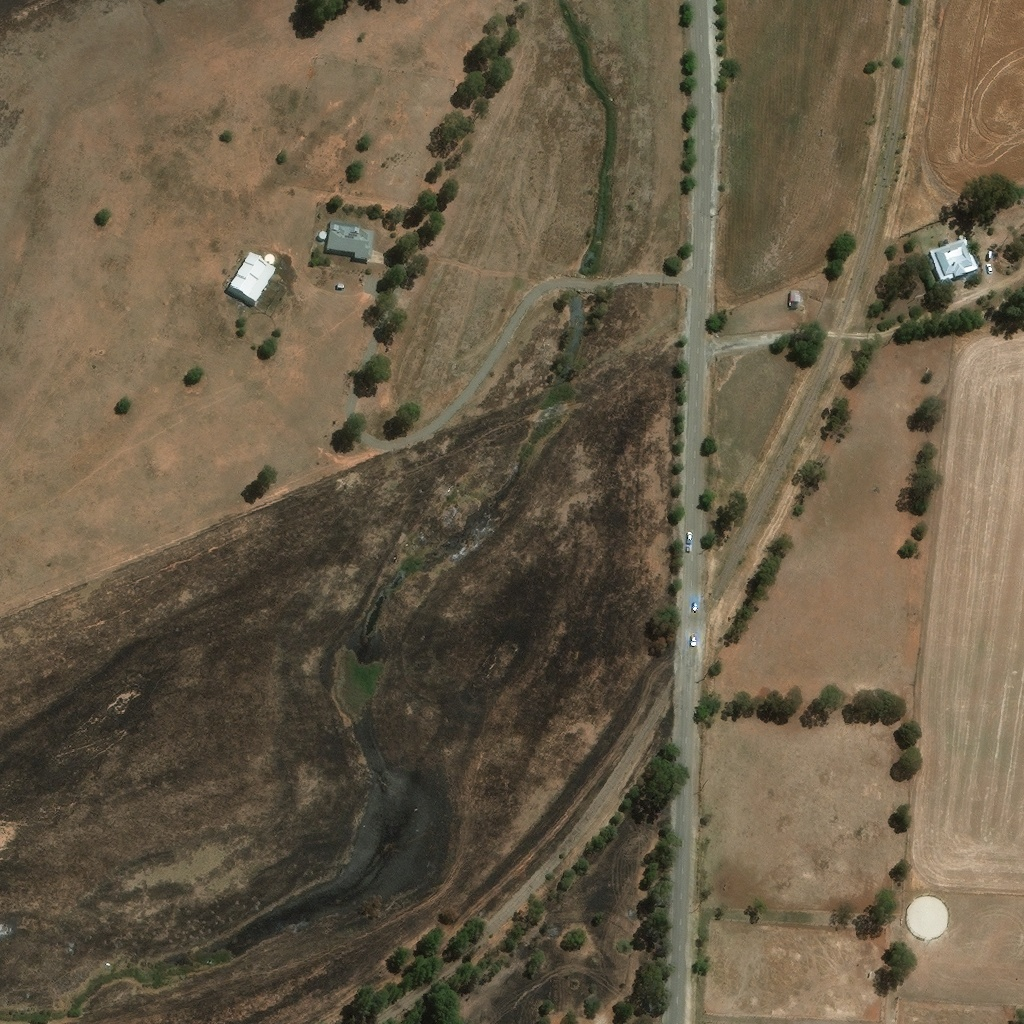0 no-damage: (229, 253, 275, 304), (929, 235, 979, 280), (325, 224, 373, 260), (790, 289, 802, 305), (263, 253, 275, 265), (318, 231, 327, 239), (337, 282, 345, 288)
